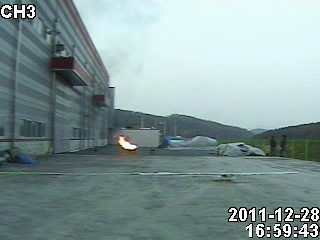fire: (118, 136, 139, 150)
